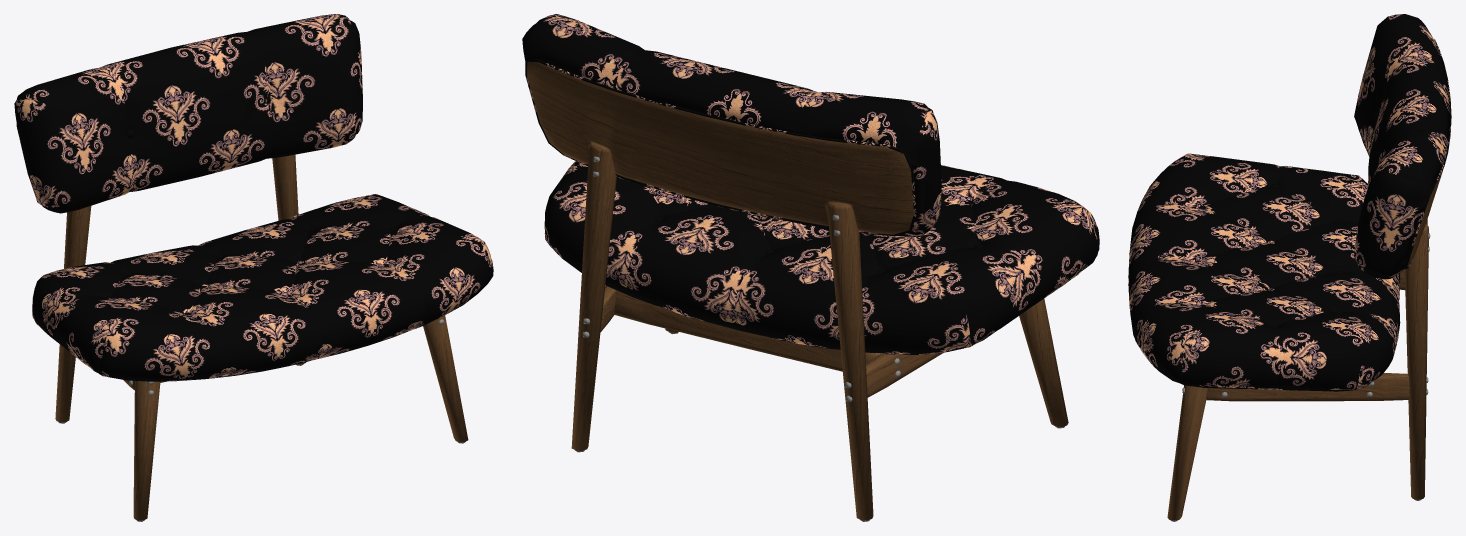
The model's file is ChairDamaskPurplegold.glb.
The picture shows the model from 3 angles, left to right: view 1: azimuth 30°, elevation 25°; view 2: azimuth 150°, elevation 25°; view 3: azimuth 270°, elevation 25°; orthographic projection. The views are drawn at different scales.
Parts seen in each view (by area): view 1: oval-tufted-chair_back-fabric, oval-tufted-chair_legs-frame; view 2: oval-tufted-chair_back-fabric, oval-tufted-chair_legs-frame; view 3: oval-tufted-chair_back-fabric, oval-tufted-chair_legs-frame.
Part boxes in pixels (bbox=[...]): oval-tufted-chair_back-fabric: bbox=[14, 14, 493, 381]; oval-tufted-chair_legs-frame: bbox=[55, 154, 468, 520]; oval-tufted-chair_back-fabric: bbox=[522, 14, 1099, 354]; oval-tufted-chair_legs-frame: bbox=[527, 61, 1068, 520]; oval-tufted-chair_back-fabric: bbox=[1128, 14, 1451, 391]; oval-tufted-chair_legs-frame: bbox=[1167, 169, 1443, 520].
Size of the model in its own units: 0.8286 by 0.6867 by 0.5716.
Materials: 4 (3 with a texture image).
